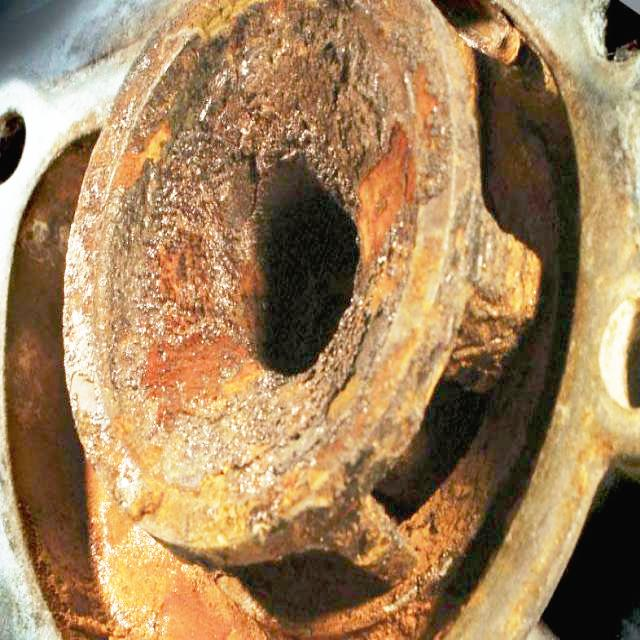Corrosion: (1, 0, 640, 640)
